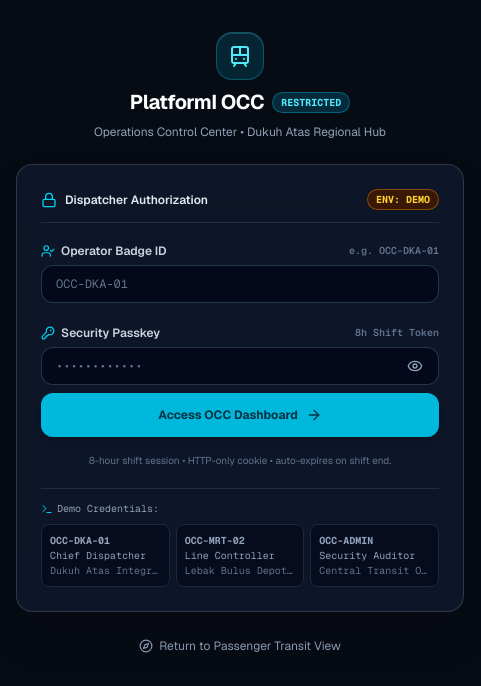
AdminLogin credential hygiene › fills the operator ID on preset select and leaves the passkey empty
Click the text "OCC-MRT-02".
click(215, 540)  # box [185,534,245,547]
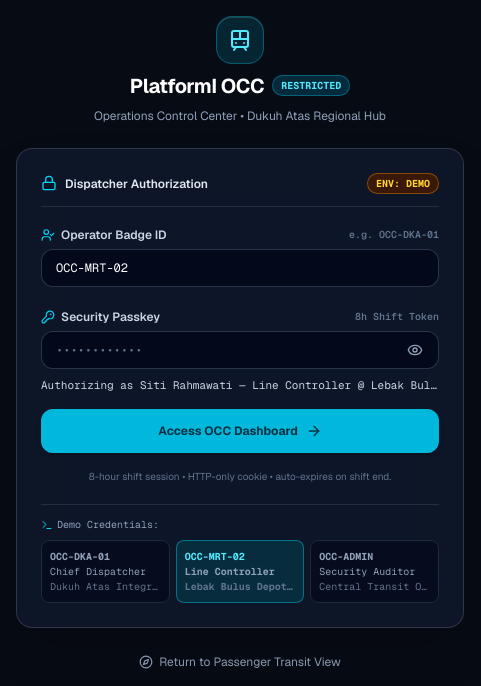
Check: the password field labelled "Security Passkey 8h Shift Token" is empty, box [41,331,439,369]
Check: the field labelled "Operator Badge ID e.g. OCC-DKA-01" holds "OCC-MRT-02", box [41,249,439,287]
